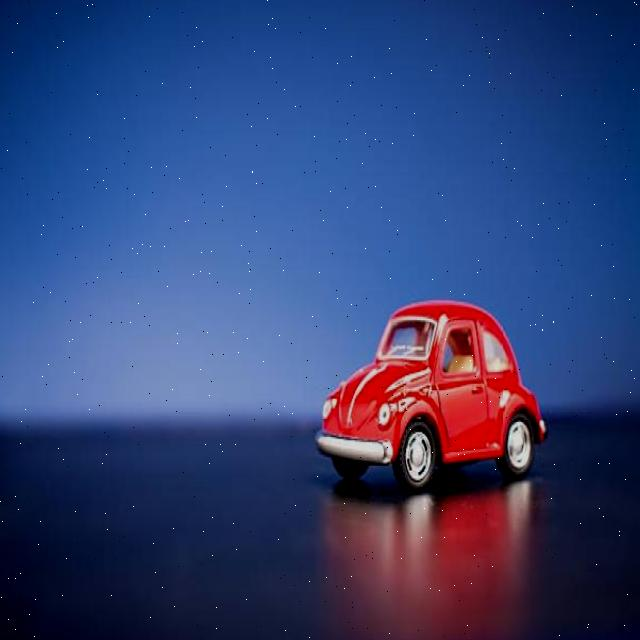car: (323, 299, 549, 500)
